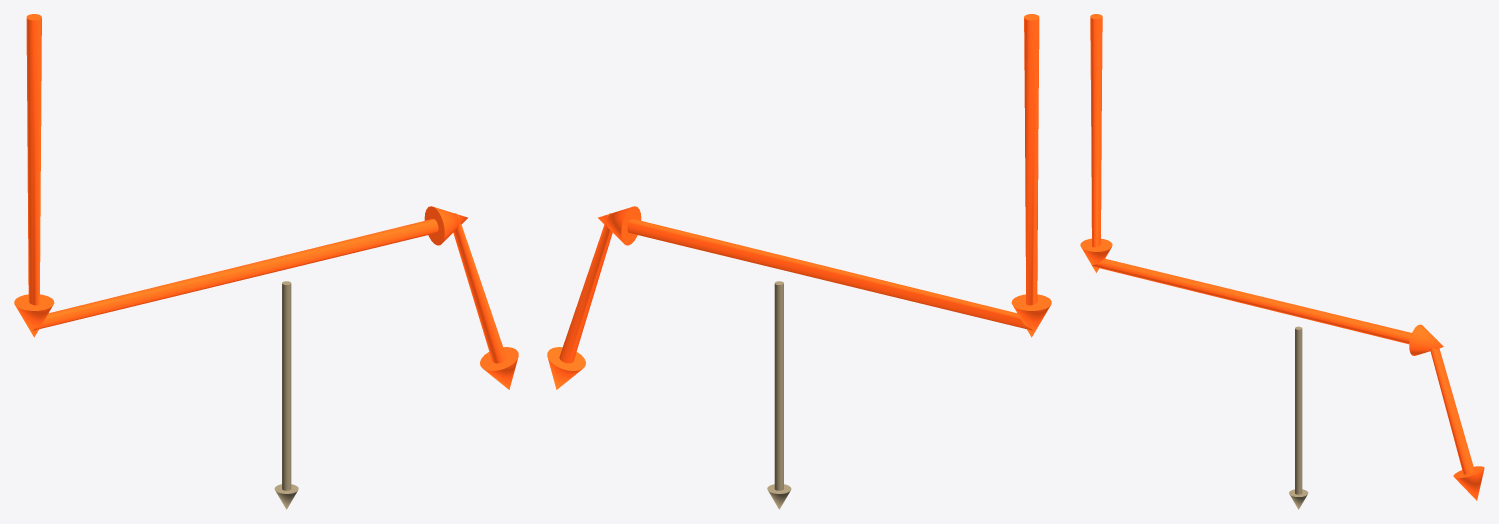
File: grizzly_feeder_flow.glb
3 views of the same model, side by side, from view 1: azimuth 30°, elevation 25°; view 2: azimuth 150°, elevation 25°; view 3: azimuth 330°, elevation 25° (orthographic). The views are drawn at different scales.
Visible parts, largest first — view 1: material, fines.001; view 2: material, fines.001; view 3: material, fines.001.
Part boxes in pixels (x1,y1,x2,y2): material: (14,14,518,389); fines.001: (274,281,298,509); material: (547,14,1051,389); fines.001: (767,281,791,509); material: (1080,14,1484,500); fines.001: (1289,326,1308,509).
Bounding box in the file's own units: 1.48 × 1.57 × 0.104.
